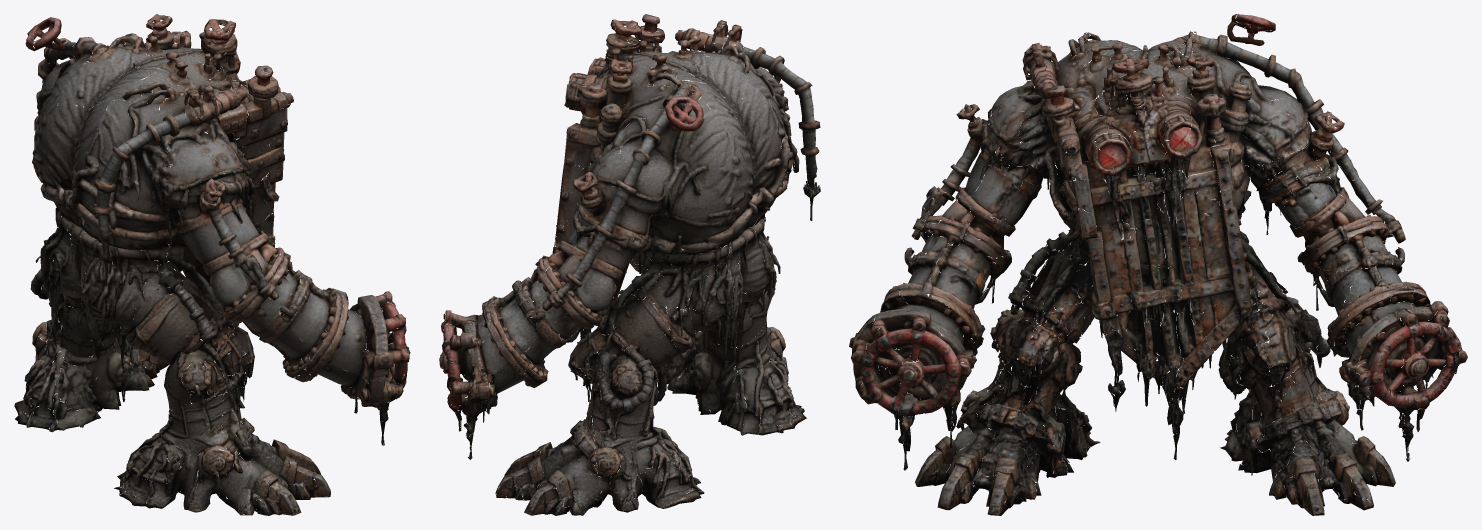
The model's file is tb_sluice.glb.
3 views of the same model, side by side, from view 1: azimuth 30°, elevation 25°; view 2: azimuth 150°, elevation 25°; view 3: azimuth 270°, elevation 25° (orthographic). The views are drawn at different scales.
Visible parts, largest first — view 1: tripo_node_48bef531-9d2d-4323-96c9-09ebaf738b59; view 2: tripo_node_48bef531-9d2d-4323-96c9-09ebaf738b59; view 3: tripo_node_48bef531-9d2d-4323-96c9-09ebaf738b59.
Part boxes in pixels (<box>): tripo_node_48bef531-9d2d-4323-96c9-09ebaf738b59: <box>14,14,410,515</box>; tripo_node_48bef531-9d2d-4323-96c9-09ebaf738b59: <box>439,14,820,515</box>; tripo_node_48bef531-9d2d-4323-96c9-09ebaf738b59: <box>849,14,1467,515</box>.
Size of the model in its own units: 0.4646 by 0.8058 by 0.98.
1 material, 1 textured.
